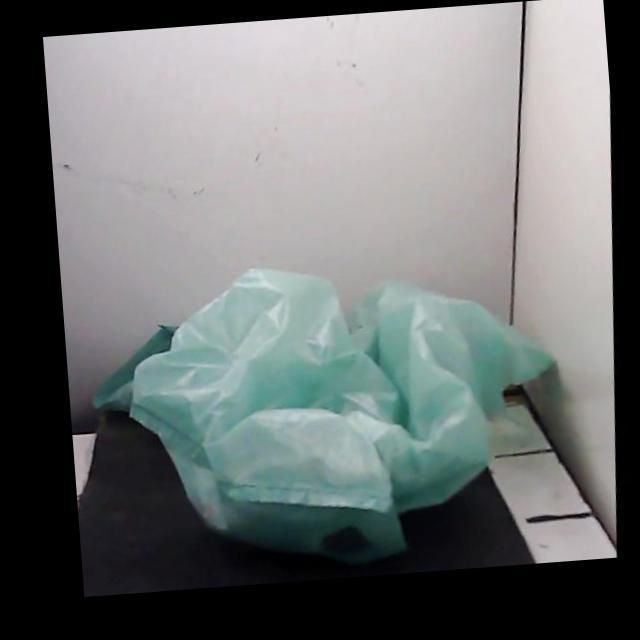plastico: (98, 269, 551, 562)
